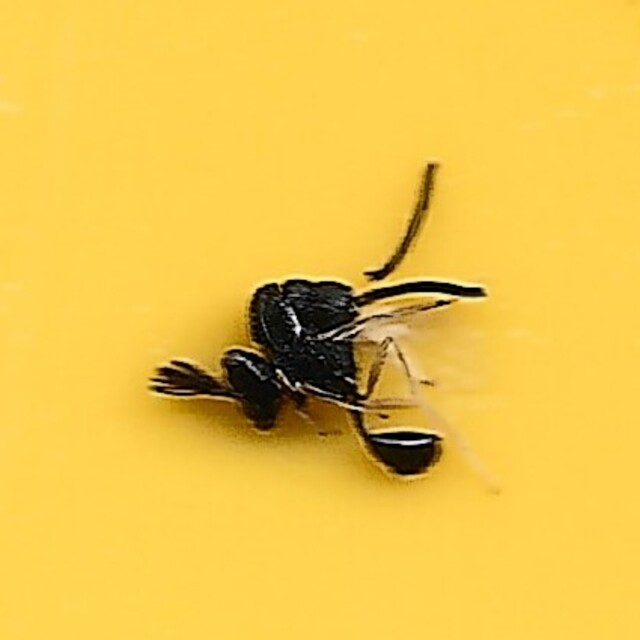Hymenoptera: (151, 155, 489, 485)
